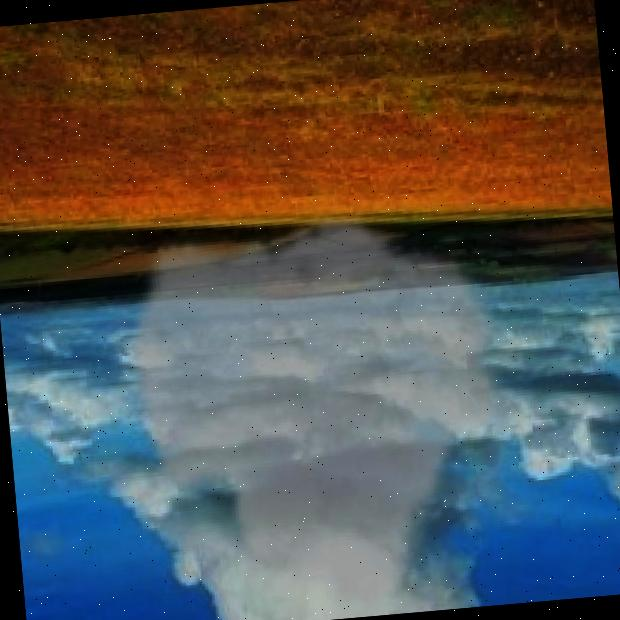smoke: (113, 196, 533, 620)
